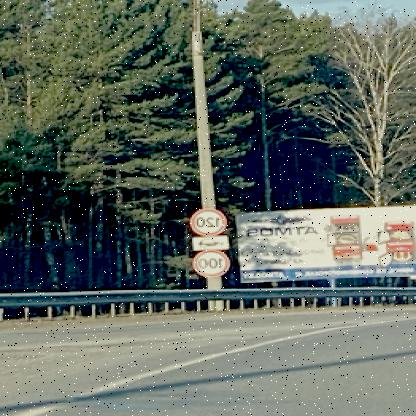speedlimit: (193, 206, 228, 234), (196, 250, 232, 276)
